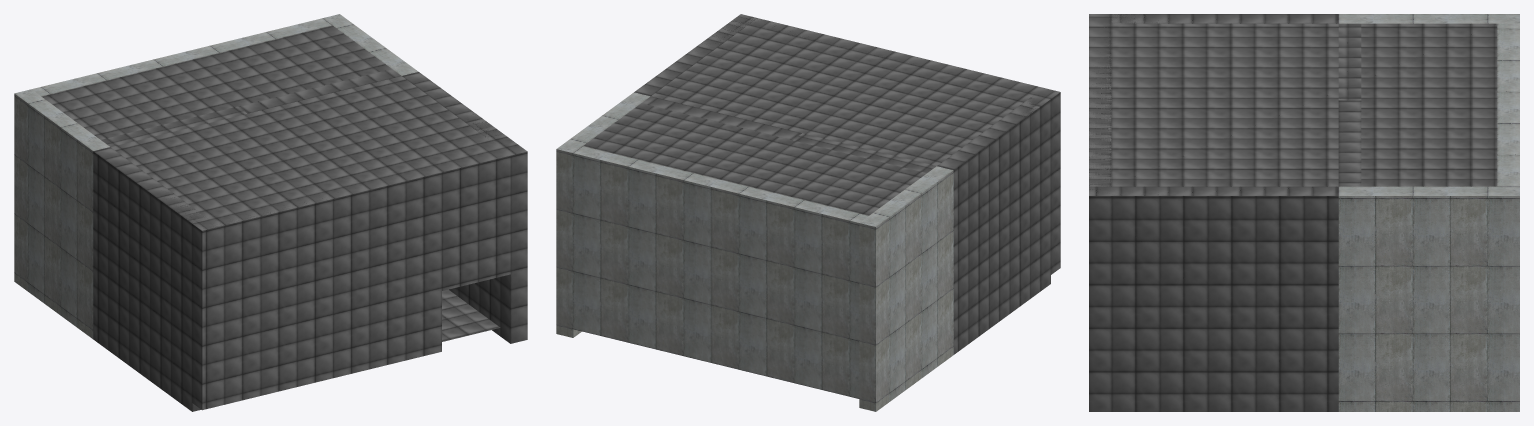
File: Level_16.fbx
3 renders of one model, left to right at view 1: azimuth 30°, elevation 25°; view 2: azimuth 150°, elevation 25°; view 3: azimuth 270°, elevation 25°, orthographic. The views are drawn at different scales.
Parts seen in each view (by area): view 1: NoTeleport.005, Wall.006; view 2: Wall.006, NoTeleport.005; view 3: NoTeleport.005, Wall.006.
Boxes of the visible parts, left/top/right/bottom form: NoTeleport.005: left=41, top=25, right=527, bottom=411; Wall.006: left=14, top=14, right=418, bottom=338; Wall.006: left=556, top=92, right=953, bottom=411; NoTeleport.005: left=583, top=14, right=1060, bottom=354; NoTeleport.005: left=1089, top=14, right=1497, bottom=411; Wall.006: left=1338, top=14, right=1519, bottom=411.
Size of the model in its own units: 19 by 19 by 10.5.
